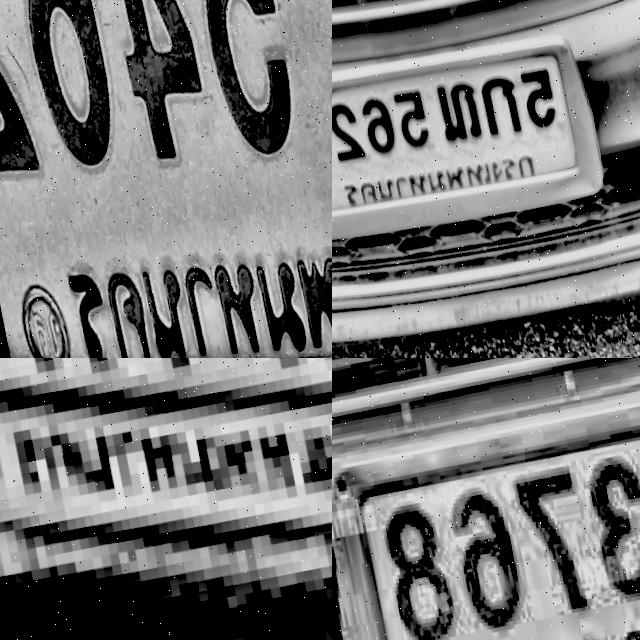license-plate: (0, 0, 332, 358), (0, 358, 332, 640), (332, 358, 640, 640), (332, 31, 605, 251)
